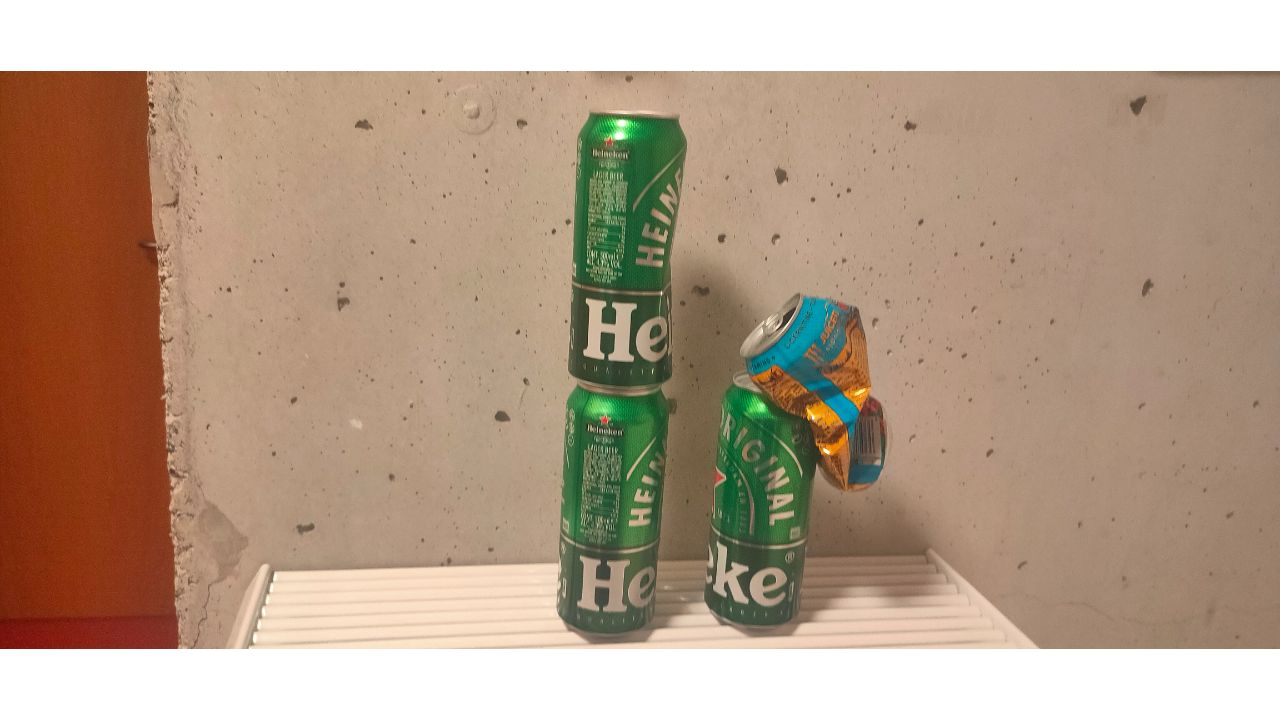Can: (569, 112, 687, 389), (736, 292, 890, 492), (702, 376, 810, 628), (560, 383, 666, 639)
